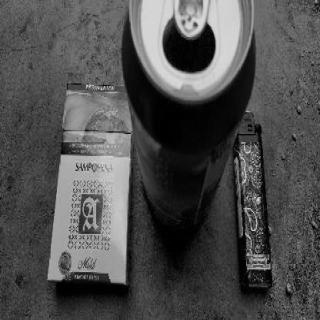objects: (47, 83, 133, 286)
